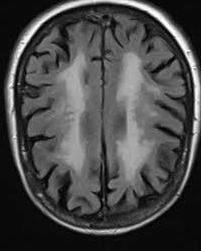Normal_Brain: (11, 1, 201, 251)
